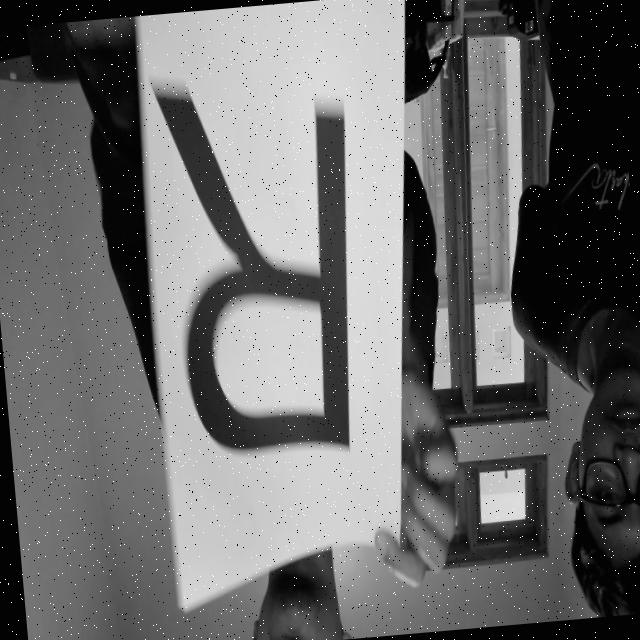r: (138, 43, 382, 480)
